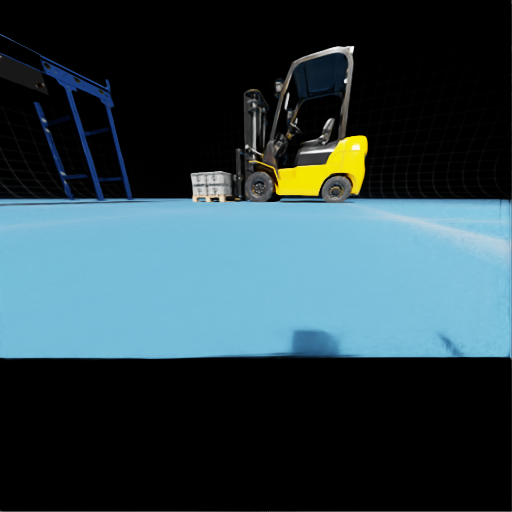transportation_area: (207, 184, 235, 194)
